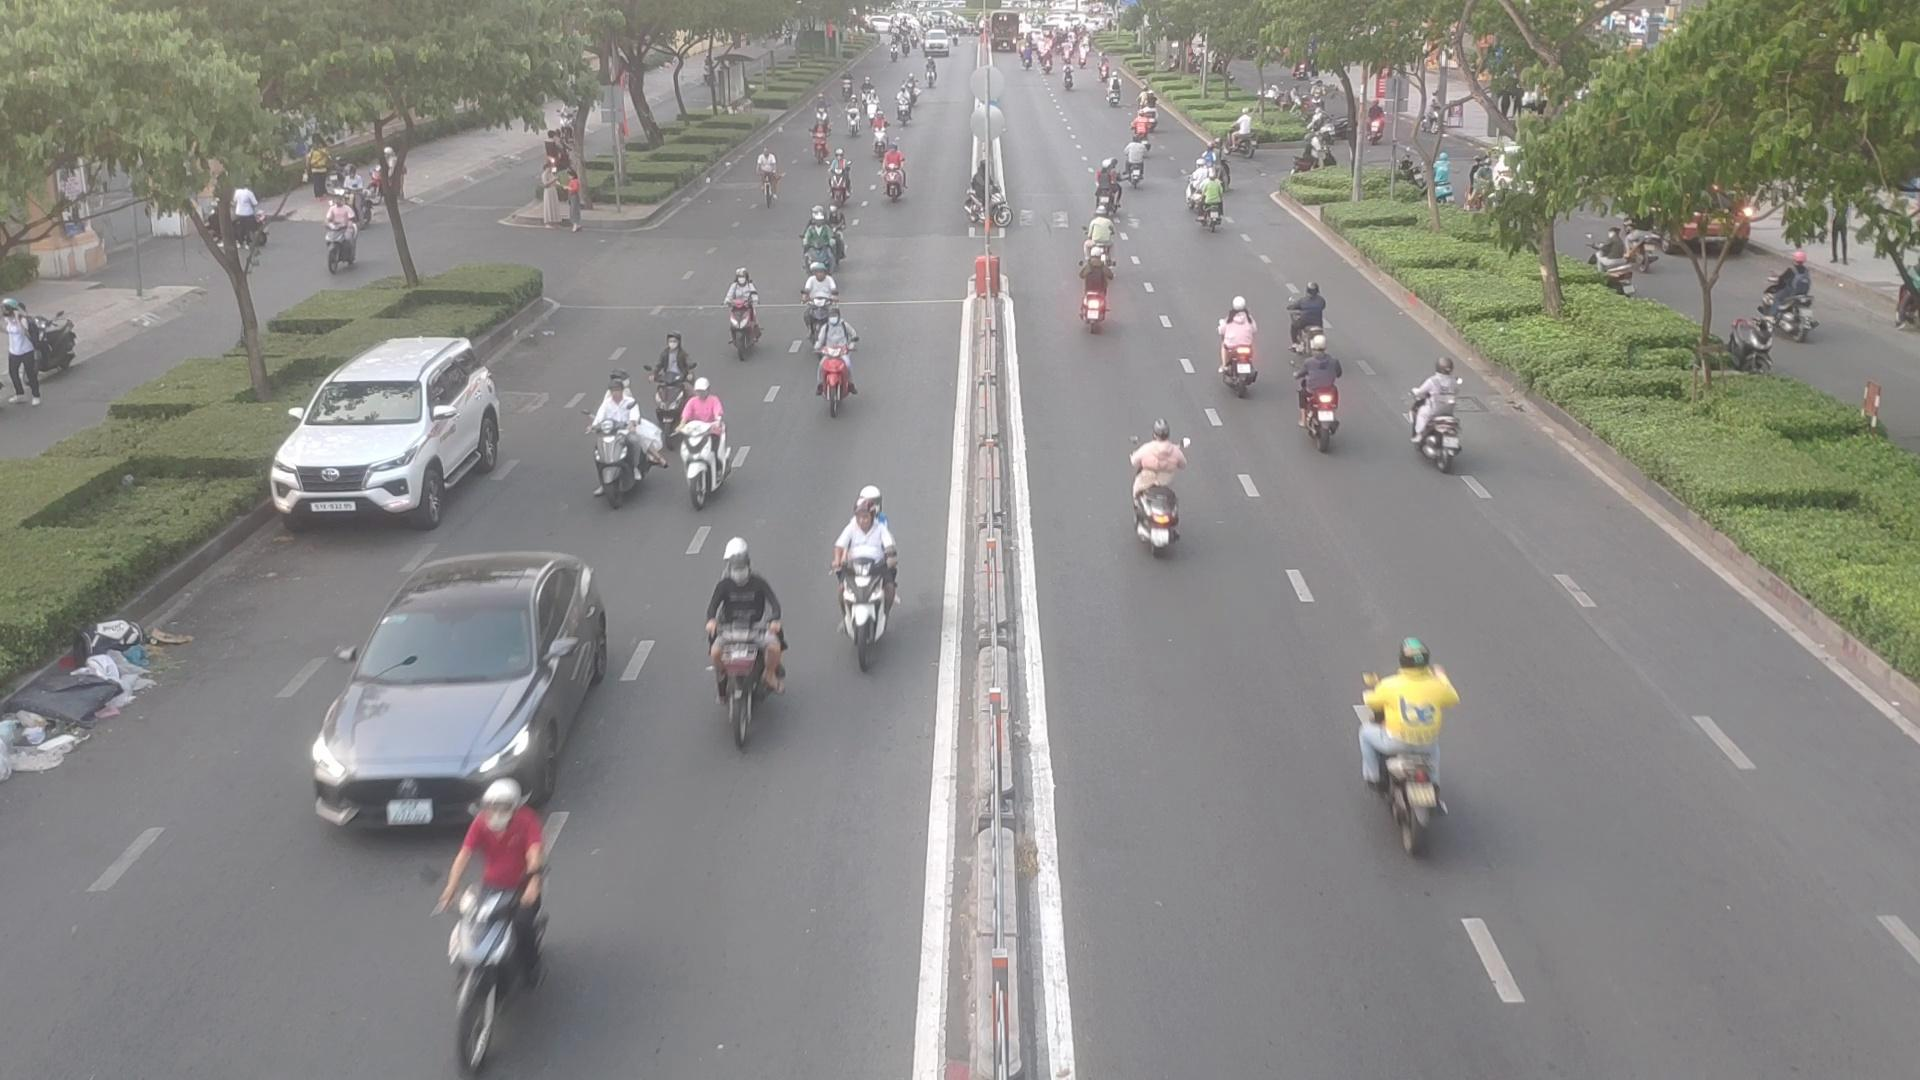car: (302, 553, 611, 837), (276, 338, 517, 530)
motorbike: (411, 790, 549, 1033), (1356, 636, 1472, 849), (694, 560, 785, 746), (832, 500, 899, 670), (588, 382, 669, 509), (667, 381, 740, 509), (1118, 423, 1182, 551), (1411, 363, 1474, 469), (811, 301, 869, 414), (1296, 344, 1357, 443), (1218, 301, 1265, 396), (719, 268, 767, 353), (1073, 216, 1122, 285), (1083, 251, 1121, 336), (1284, 284, 1331, 351), (800, 212, 849, 272), (1183, 170, 1226, 228), (876, 148, 910, 204), (1110, 141, 1146, 187), (845, 105, 868, 137)
